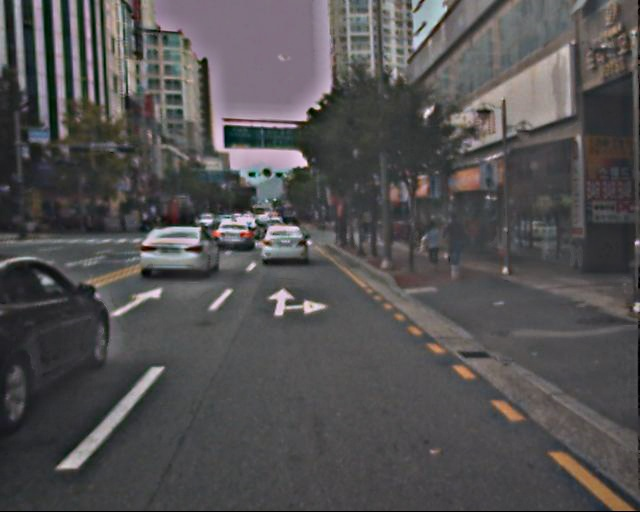person: (441, 214, 464, 271), (423, 218, 444, 270)
